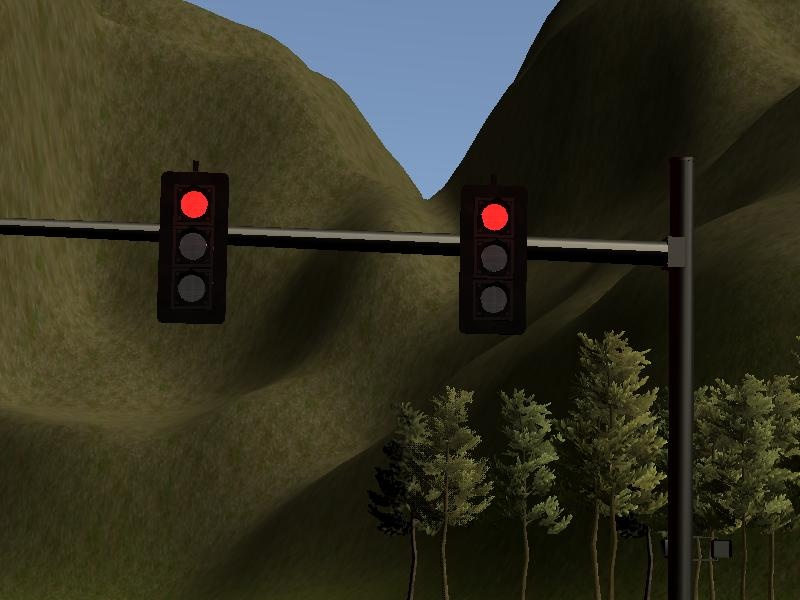red: (156, 167, 239, 331), (458, 184, 532, 345)
